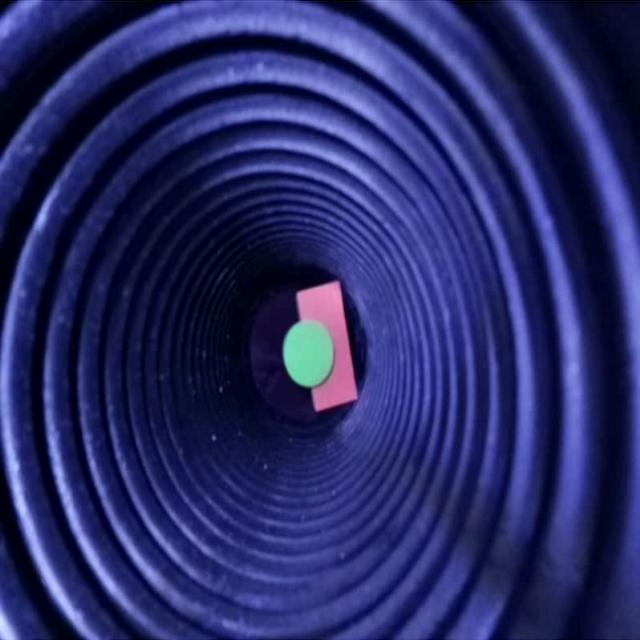block: (256, 305, 284, 407)
obstacles: (286, 283, 362, 412)
